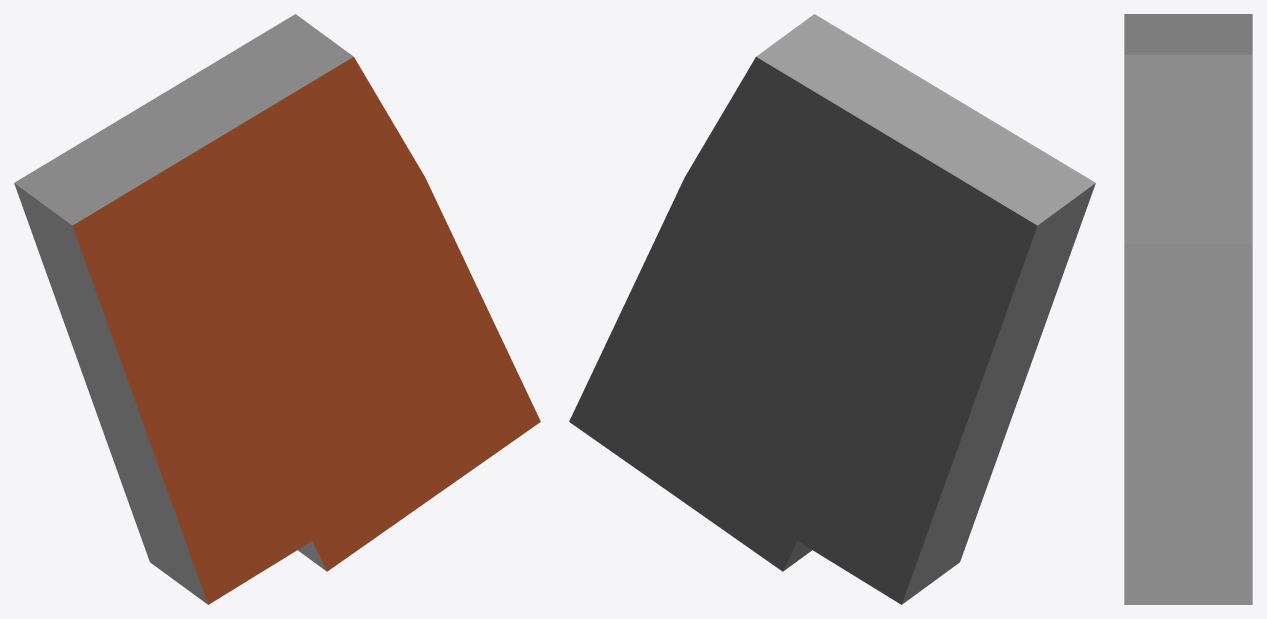
Rendered from construction_3132_assumed_A_Casa_h6m.obj.
3 views of the same model, side by side, from view 1: azimuth 30°, elevation 25°; view 2: azimuth 150°, elevation 25°; view 3: azimuth 270°, elevation 25° (orthographic). The views are drawn at different scales.
Parts seen in each view (by area): view 1: construction_3132_assumed_A_Casa; view 2: construction_3132_assumed_A_Casa; view 3: construction_3132_assumed_A_Casa.
Boxes of the visible parts, box(x1,y1,x2,y2) form: construction_3132_assumed_A_Casa: box(14, 14, 540, 604); construction_3132_assumed_A_Casa: box(569, 14, 1095, 604); construction_3132_assumed_A_Casa: box(1124, 14, 1252, 604).
Bounding box in the file's own units: 27.8 × 29.07 × 6.
